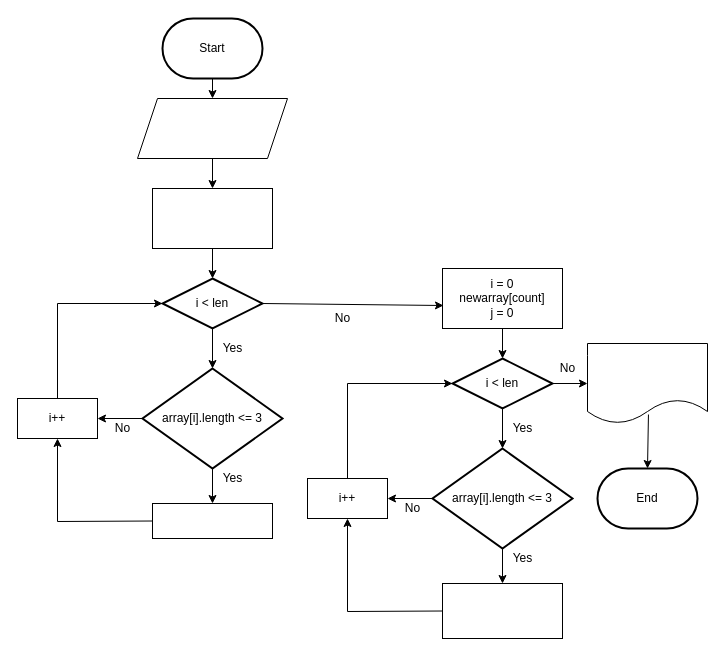
Image size: 725x656. Some labels were removed from this diagram. Each missing label, with the centre of its shape:
array: the point at 212,128
count++: the point at 212,520
i = 0 len = array.length count = 0: the point at 212,218
newarray: the point at 647,383
newarray[j] = array[i] j++: the point at 502,610
